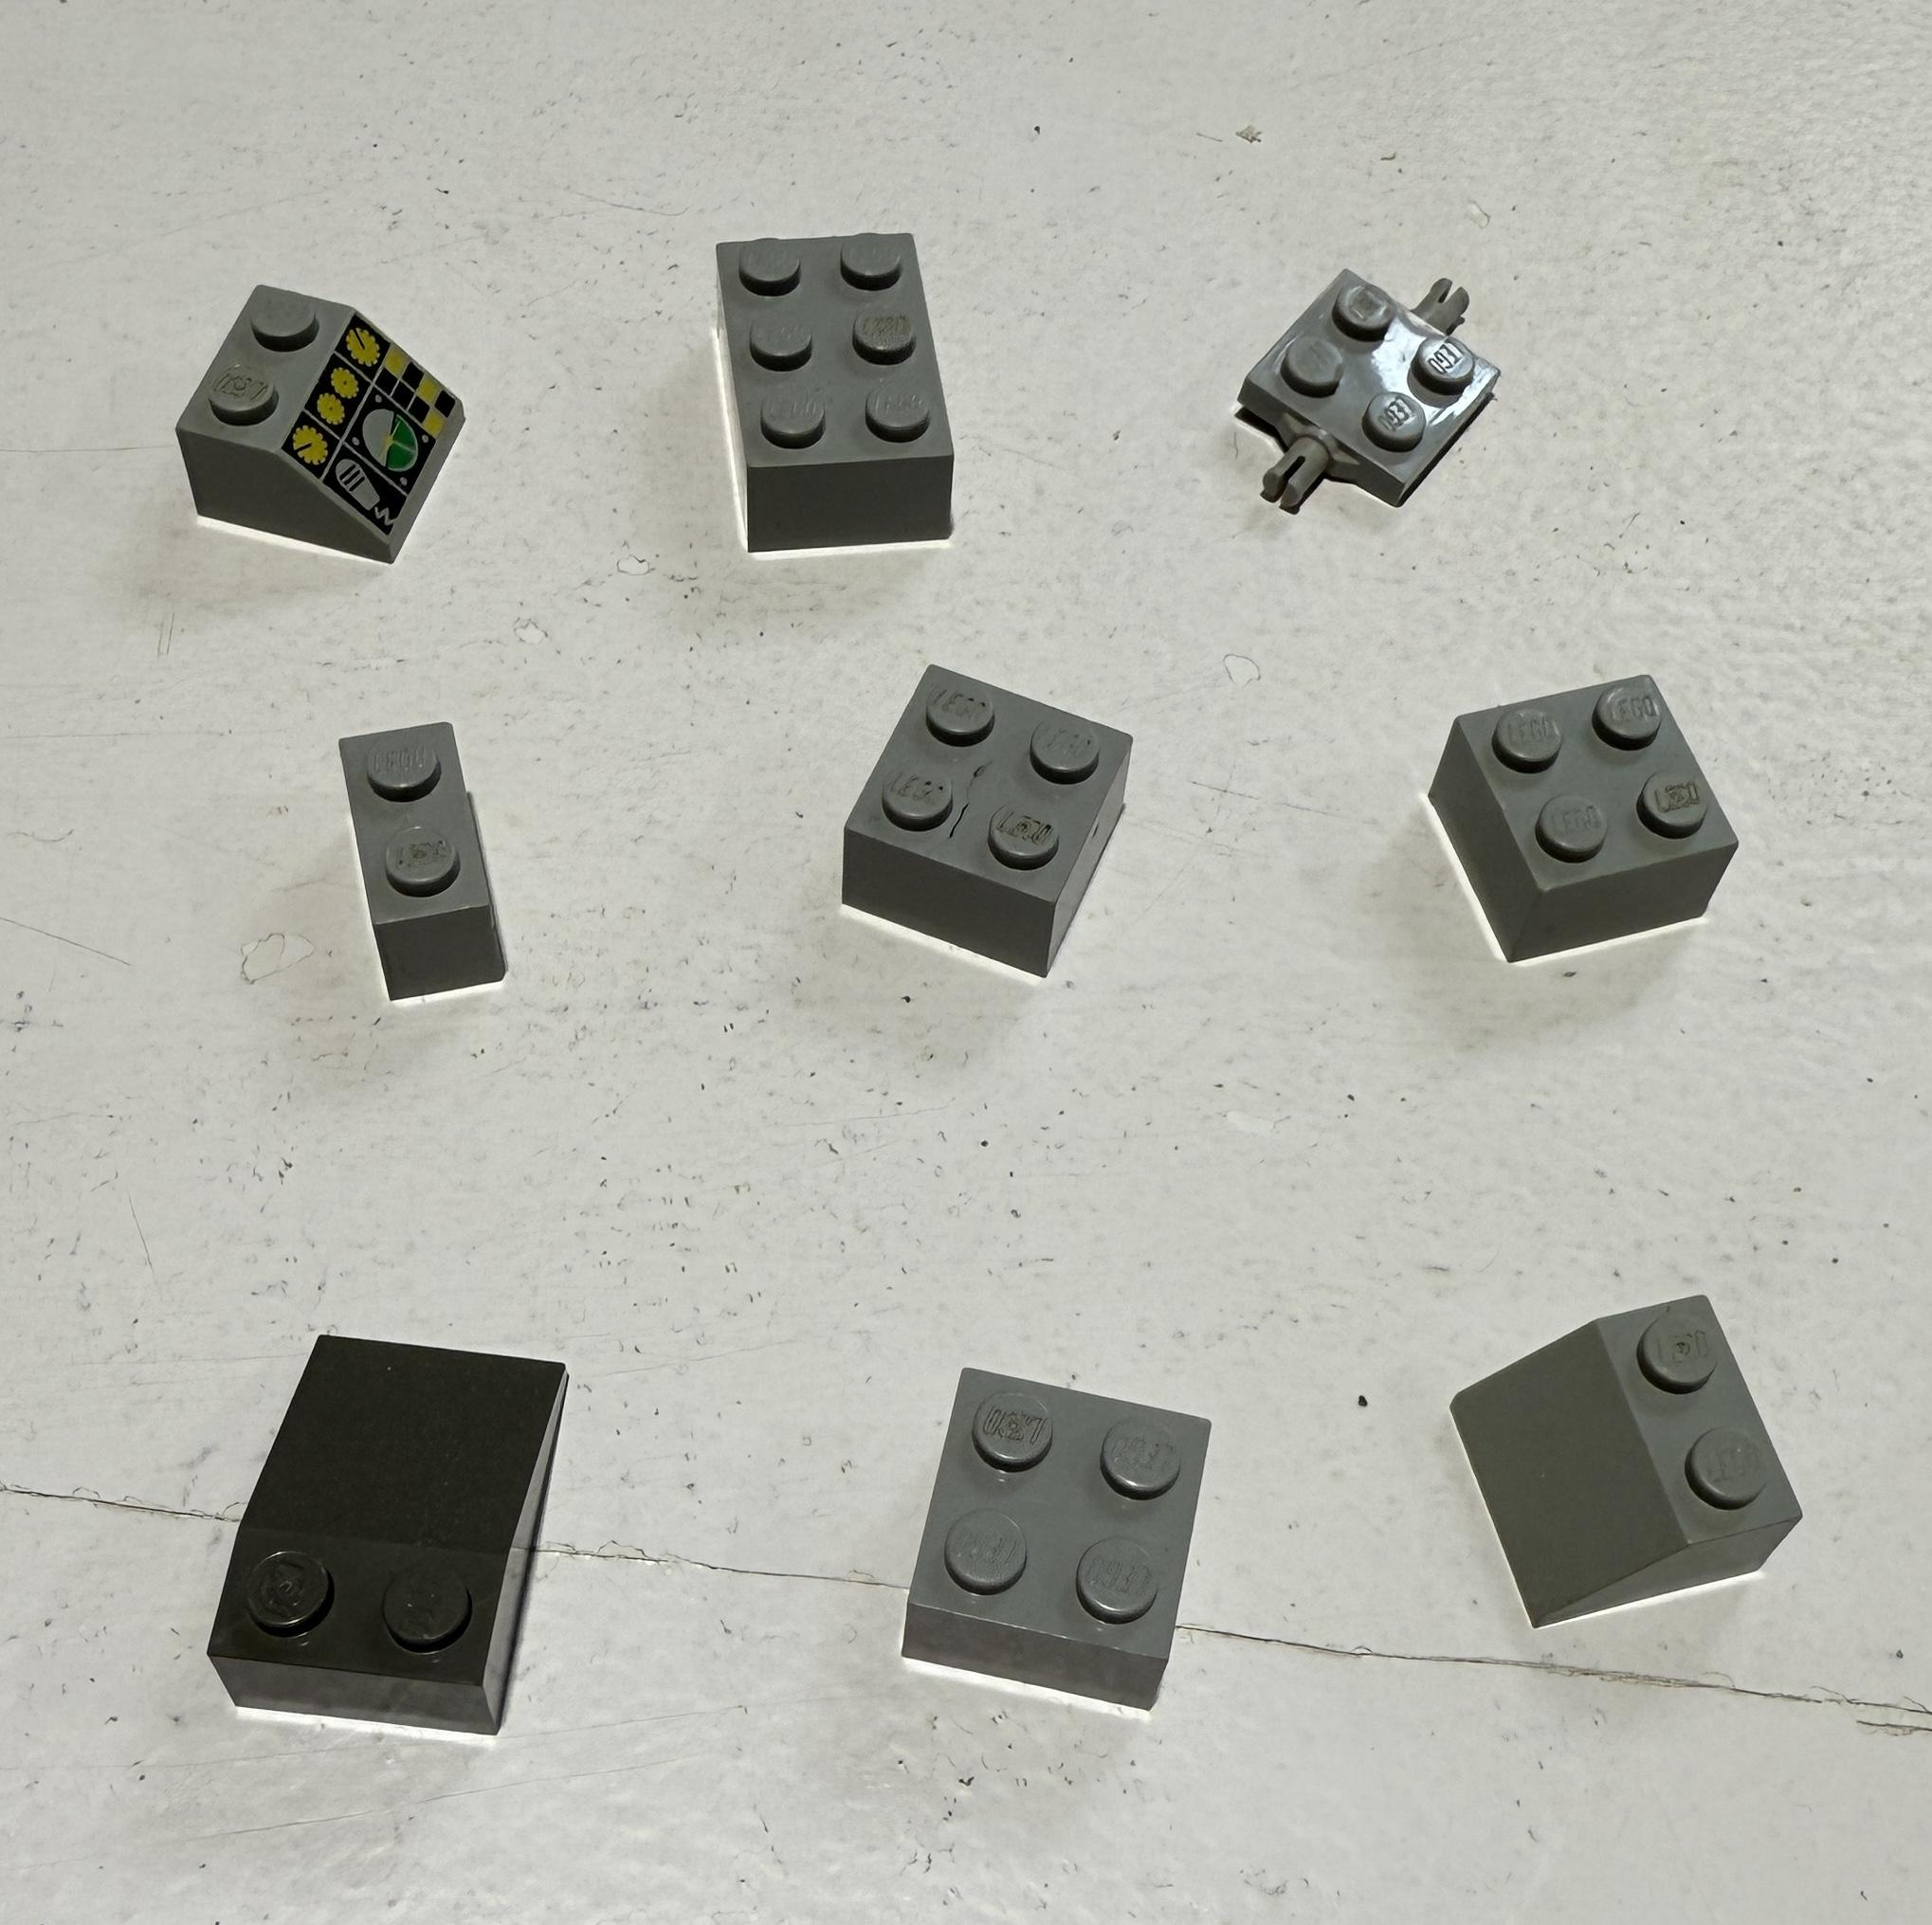Special_02: (1412, 1275, 1826, 1662), (145, 261, 502, 596)
brick_1x2: (316, 672, 548, 1029)
brick_2x2: (857, 1343, 1246, 1749), (1387, 642, 1766, 1007), (813, 658, 1149, 985)
brick_2x3: (670, 175, 1010, 591)
